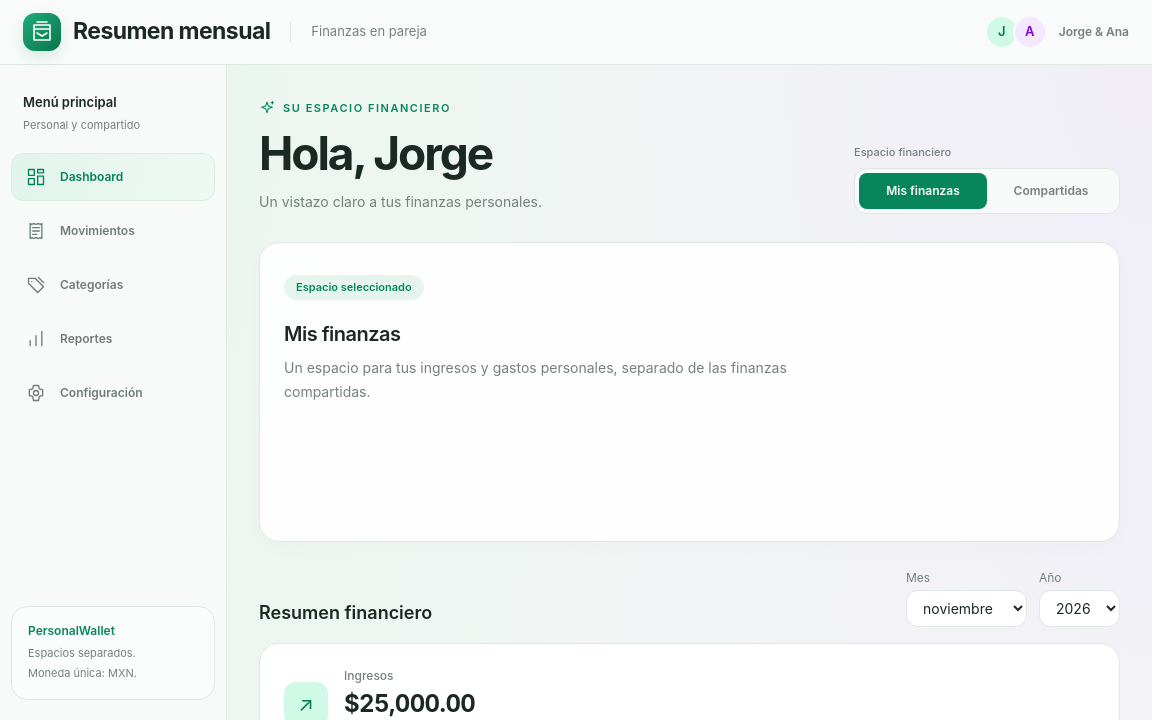
Layout y navegación › redirige al dashboard y cambia de wallet sin mezclar espacios
The width and height of the screenshot is (1152, 720).
Expected: the heading with id "wallet-heading" reads "Mis finanzas", [284, 322, 401, 346]
Step 1. Click the radio button labelled "Compartidas" → (1051, 190), box [1014, 183, 1088, 198]
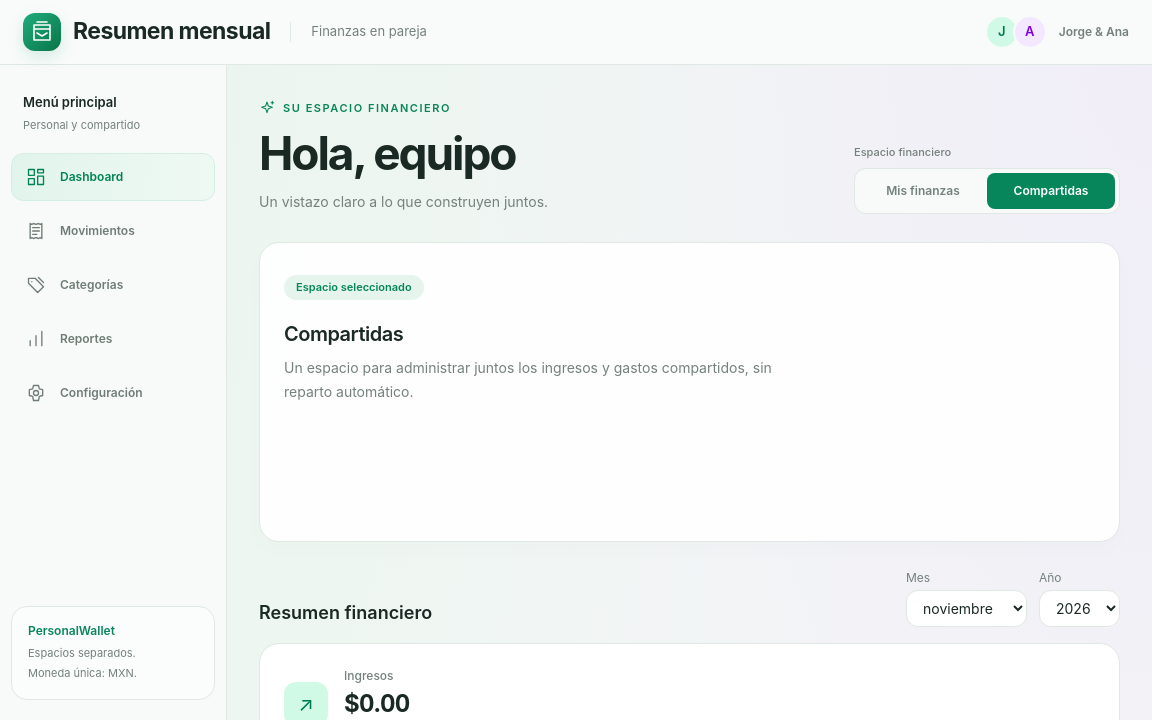
Expected: the element with test id "transactions" does not show "Sueldo de noviembre"
Expected: the heading with id "wallet-heading" reads "Compartidas", [284, 322, 403, 346]
Expected: the message shows "sin reparto automático", [284, 358, 772, 400]
Step 2. Click the radio button labelled "Mis finanzas" → (923, 190), box [886, 183, 960, 198]
(page scrolled)
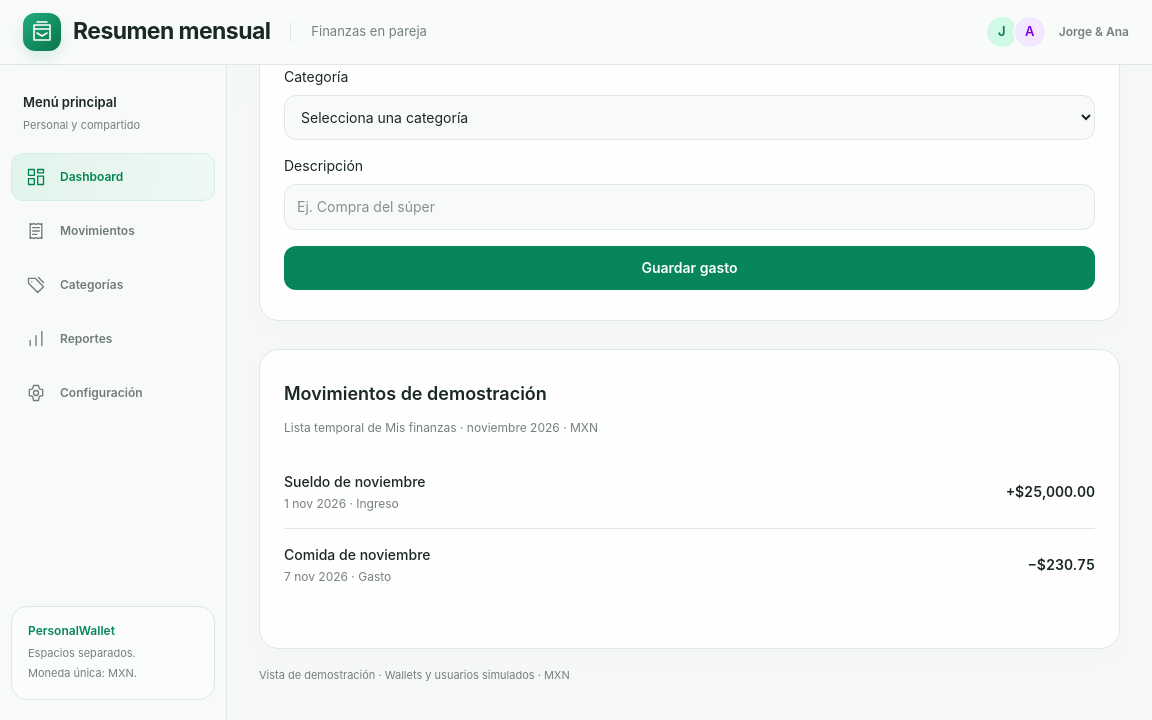
Expected: the list with test id "transactions" shows "Sueldo de noviembre", [284, 472, 426, 490]
